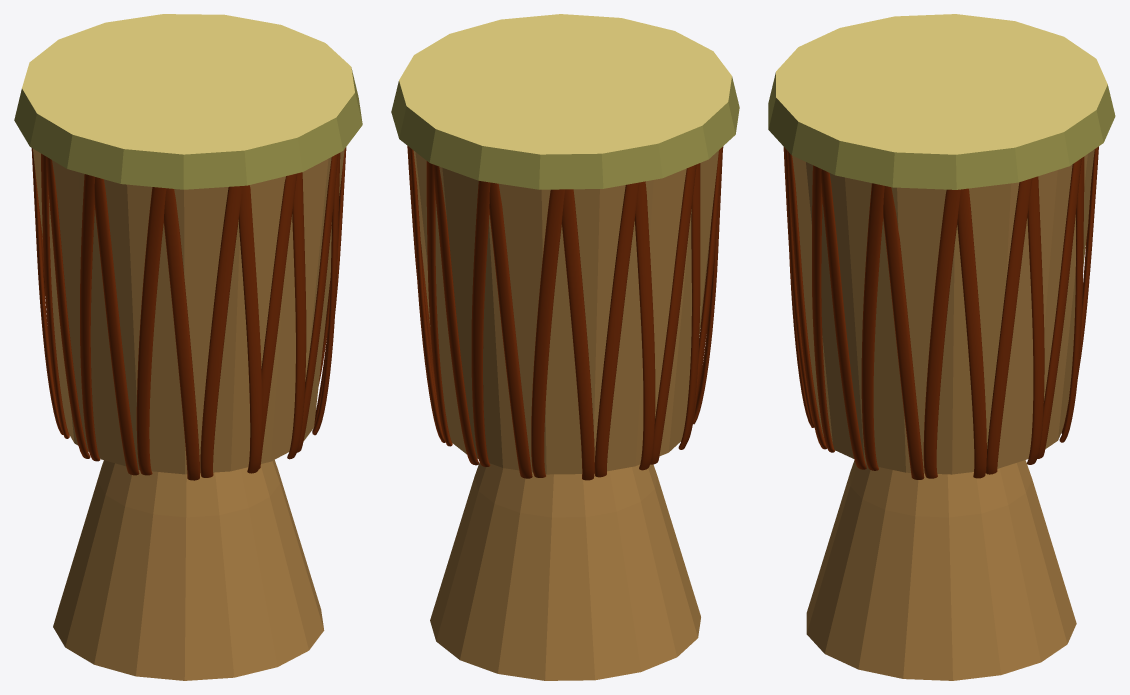
The model's file is Djembe.fbx.
The picture shows the model from 3 angles, left to right: view 1: azimuth 30°, elevation 25°; view 2: azimuth 150°, elevation 25°; view 3: azimuth 270°, elevation 25°; orthographic projection.
Visible parts, largest first — view 1: Cylinder.001; view 2: Cylinder.001; view 3: Cylinder.001.
Part boxes in pixels (<box>): Cylinder.001: <box>14,14,362,680</box>; Cylinder.001: <box>391,14,739,680</box>; Cylinder.001: <box>768,14,1115,680</box>.
Size of the model in its own units: 498 by 850 by 496.
